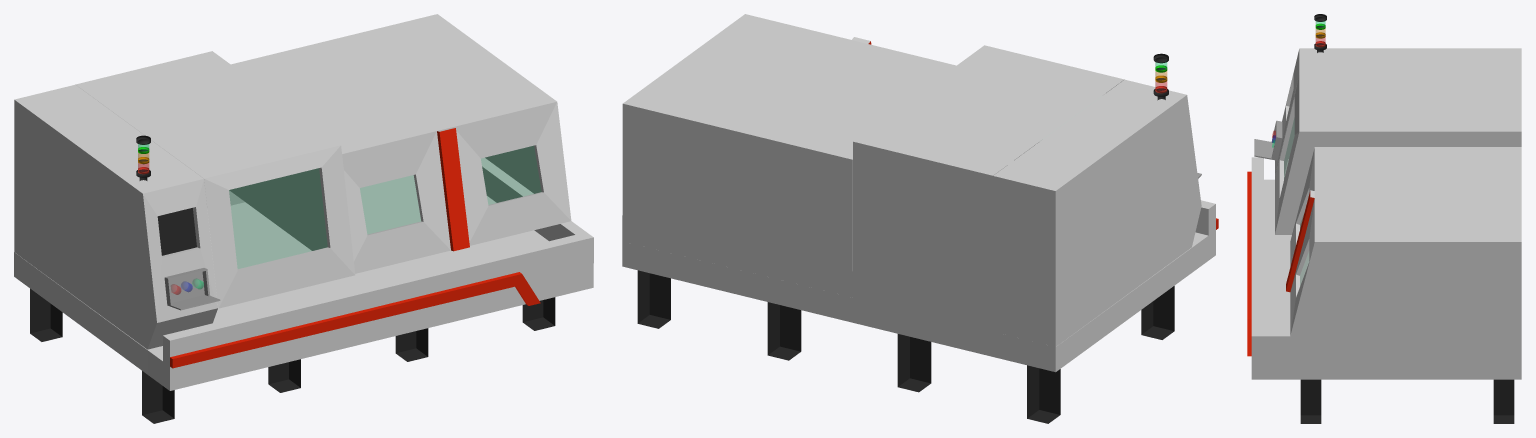
Rendered from _cutting_machine.glb.
3 renders of one model, left to right at view 1: azimuth 30°, elevation 25°; view 2: azimuth 150°, elevation 25°; view 3: azimuth 270°, elevation 25°, orthographic. The views are drawn at different scales.
Parts seen in each view (by area): view 1: Cube.008; view 2: Cube.008; view 3: Cube.008.
Boxes of the visible parts, <box> form: Cube.008: <box>14,14,593,423</box>; Cube.008: <box>622,14,1218,423</box>; Cube.008: <box>1247,14,1521,423</box>.
Size of the model in its own units: 6.67 by 4.16 by 4.33.
